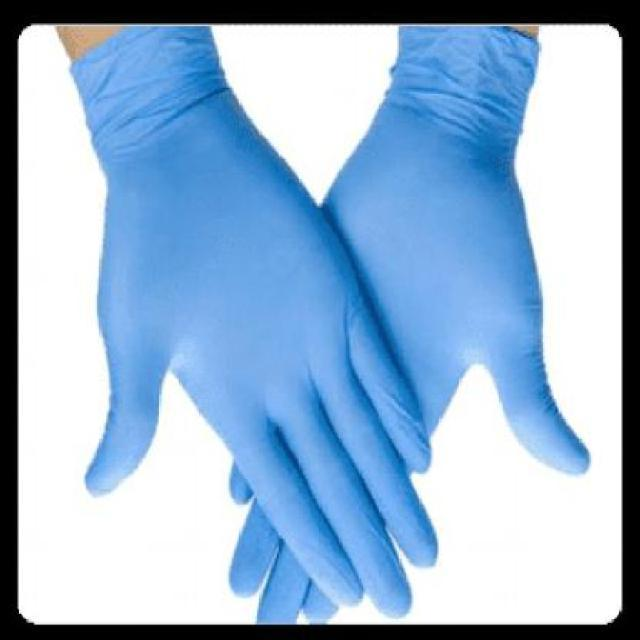gloved_hand: (35, 26, 592, 632)
